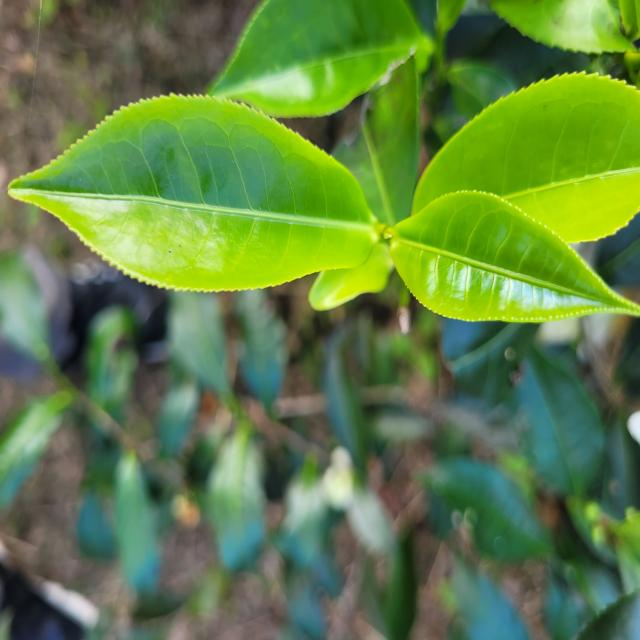Category B(2-4 days): (1, 78, 402, 327)
